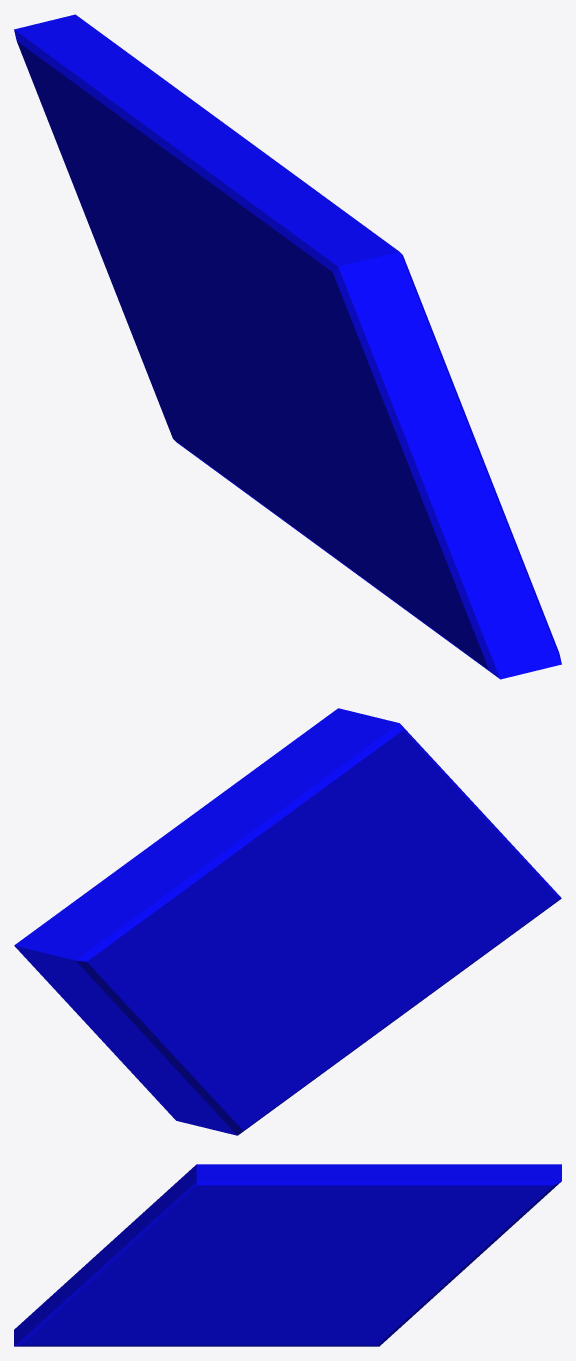
File: TangramPiece.fbx
The picture shows the model from 3 angles, top to bottom: view 1: azimuth 30°, elevation 25°; view 2: azimuth 150°, elevation 25°; view 3: azimuth 270°, elevation 25°; orthographic projection. The views are drawn at different scales.
Parts seen in each view (by area): view 1: piece4; view 2: piece4; view 3: piece4.
Boxes of the visible parts, <box> form: piece4: <box>14,14,561,679</box>; piece4: <box>14,708,561,1135</box>; piece4: <box>14,1164,561,1346</box>.
Size of the model in its own units: 25 by 100 by 300.
